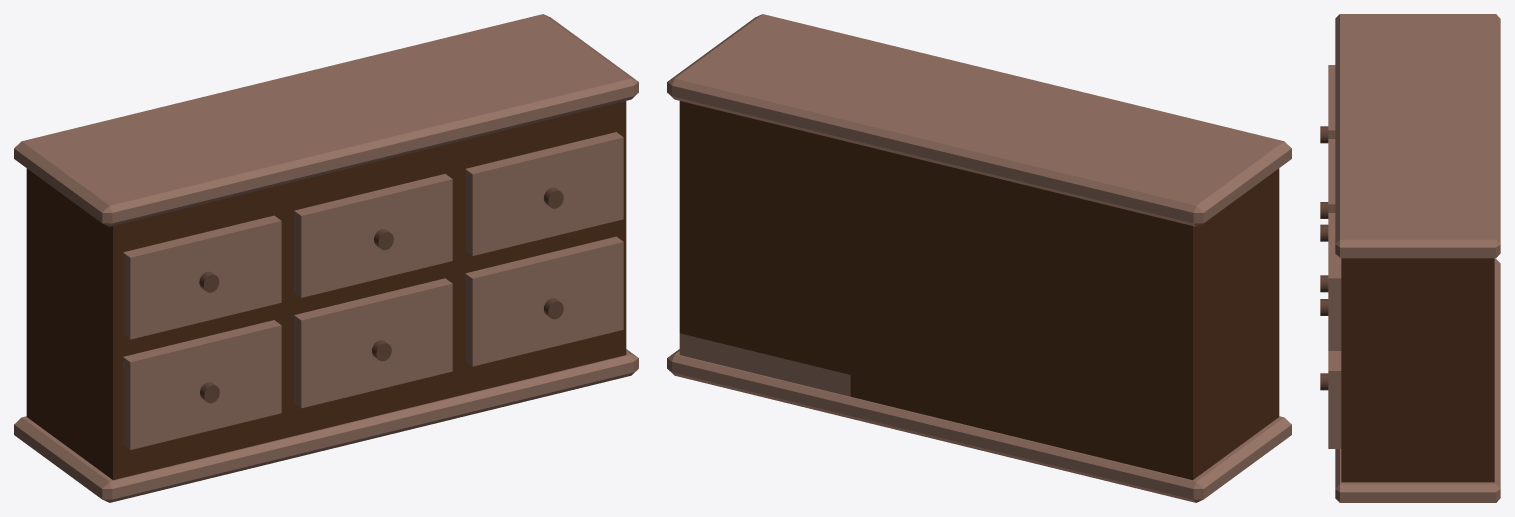
File: Colored furniture with drawers.fbx
The picture shows the model from 3 angles, left to right: view 1: azimuth 30°, elevation 25°; view 2: azimuth 150°, elevation 25°; view 3: azimuth 270°, elevation 25°; orthographic projection. The views are drawn at different scales.
Visible parts, largest first — view 1: polySurface9, polySurface3, polySurface2; view 2: polySurface9, polySurface3; view 3: polySurface3, polySurface9, polySurface2.
Part boxes in pixels (x1=…): polySurface9: x1=26, y1=101, x2=626, y2=480; polySurface3: x1=14, y1=14, x2=638, y2=502; polySurface2: x1=199, y1=187, x2=563, y2=403; polySurface9: x1=679, y1=101, x2=1279, y2=480; polySurface3: x1=667, y1=14, x2=1291, y2=502; polySurface3: x1=1335, y1=14, x2=1500, y2=502; polySurface9: x1=1328, y1=65, x2=1494, y2=482; polySurface2: x1=1320, y1=126, x2=1328, y2=390.
Size of the model in its own units: 1.67 by 0.8815 by 0.5468.
